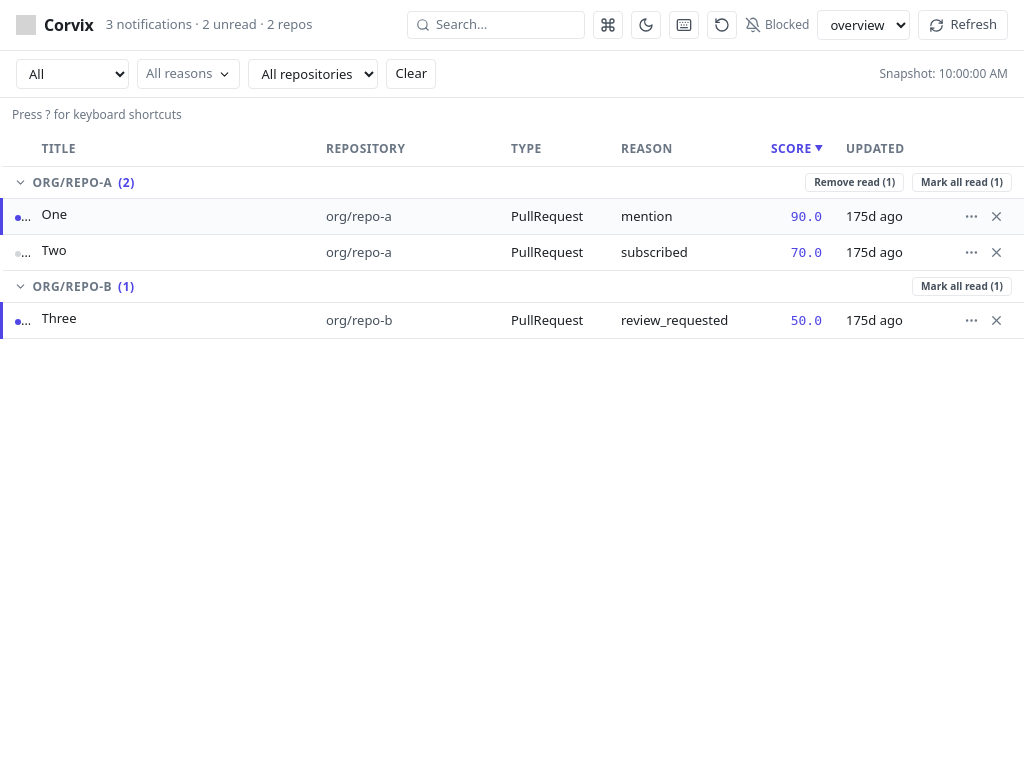
Test case: App integration › opens the ignore-rule dialog from the row context menu
This screenshot has width=1024, height=768.
Right-click the row "One org/repo-a PullRequest mention 90.0 175d ago" at (513, 216), box 2,198 -> 1023,234
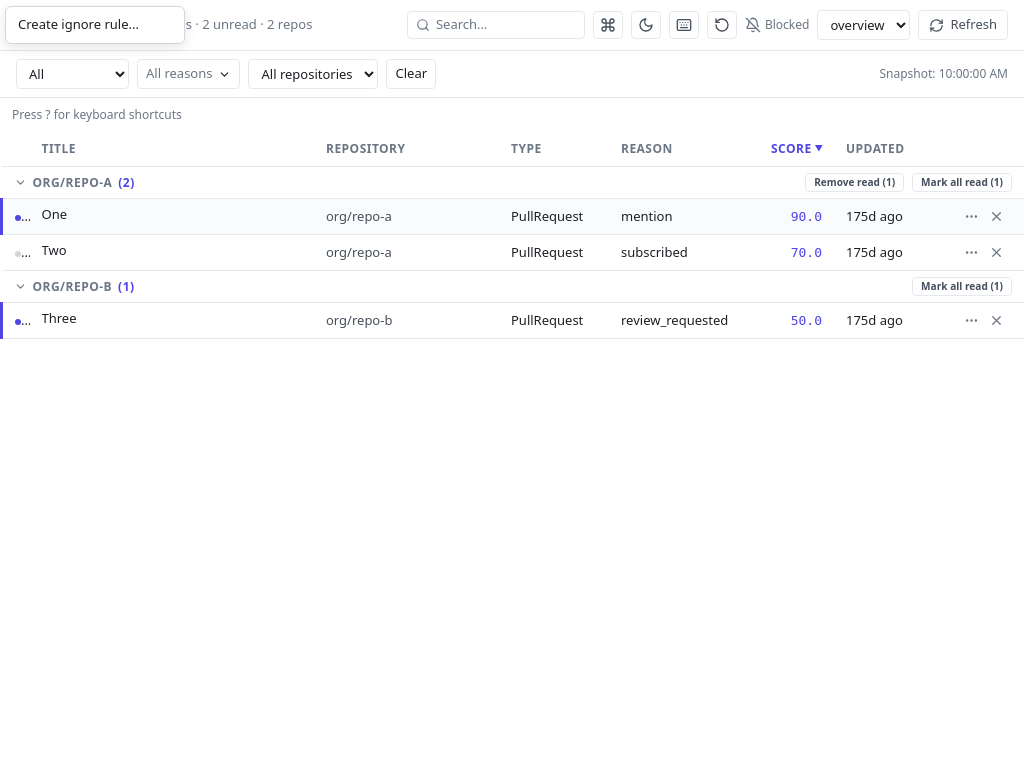
Click the menu item "Create ignore rule..." at (95, 25), box 6,7 -> 184,42
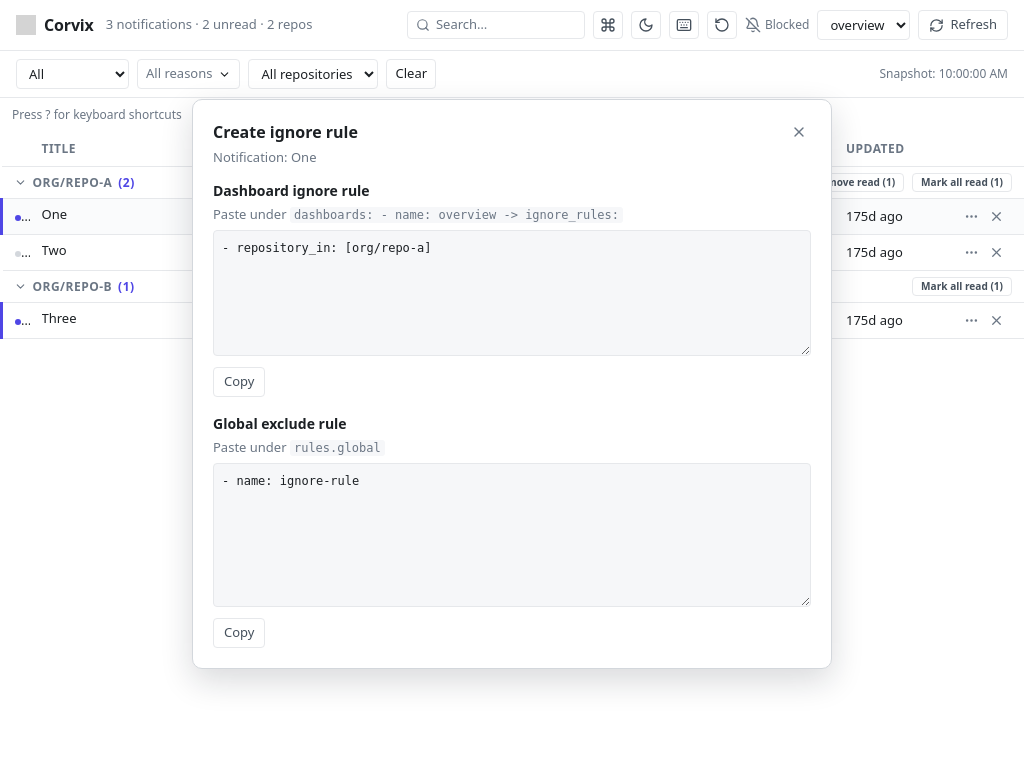
expect the heading "Create ignore rule" is shown: met, box 213,120 -> 358,144
expect the heading "Dashboard ignore rule" is shown: met, box 213,181 -> 370,200
